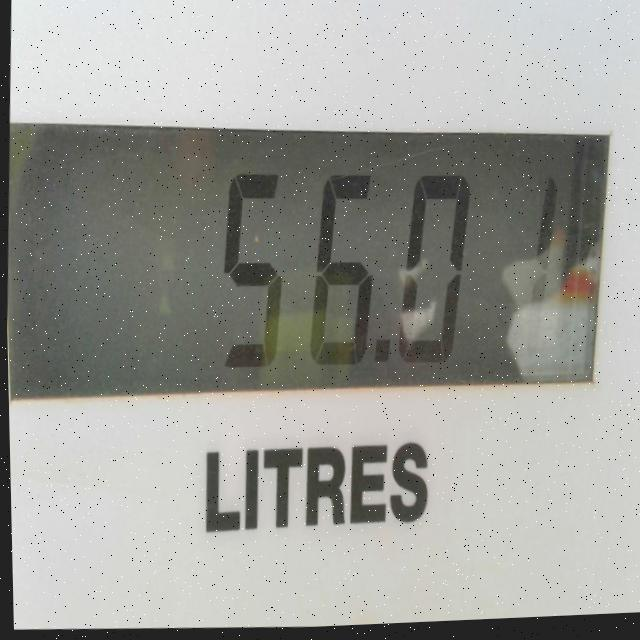.: (374, 341, 390, 371)
0: (391, 178, 485, 411)
5: (194, 155, 286, 378)
6: (295, 178, 382, 412)
